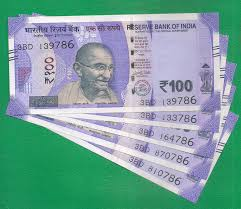hundred: (19, 34, 203, 97)
